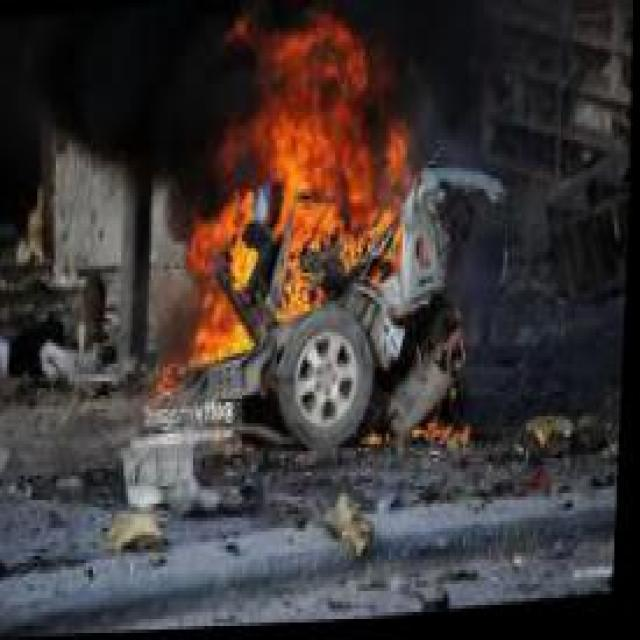Fire: (107, 0, 431, 381), (409, 381, 488, 462)
Smoke: (0, 0, 202, 234)
